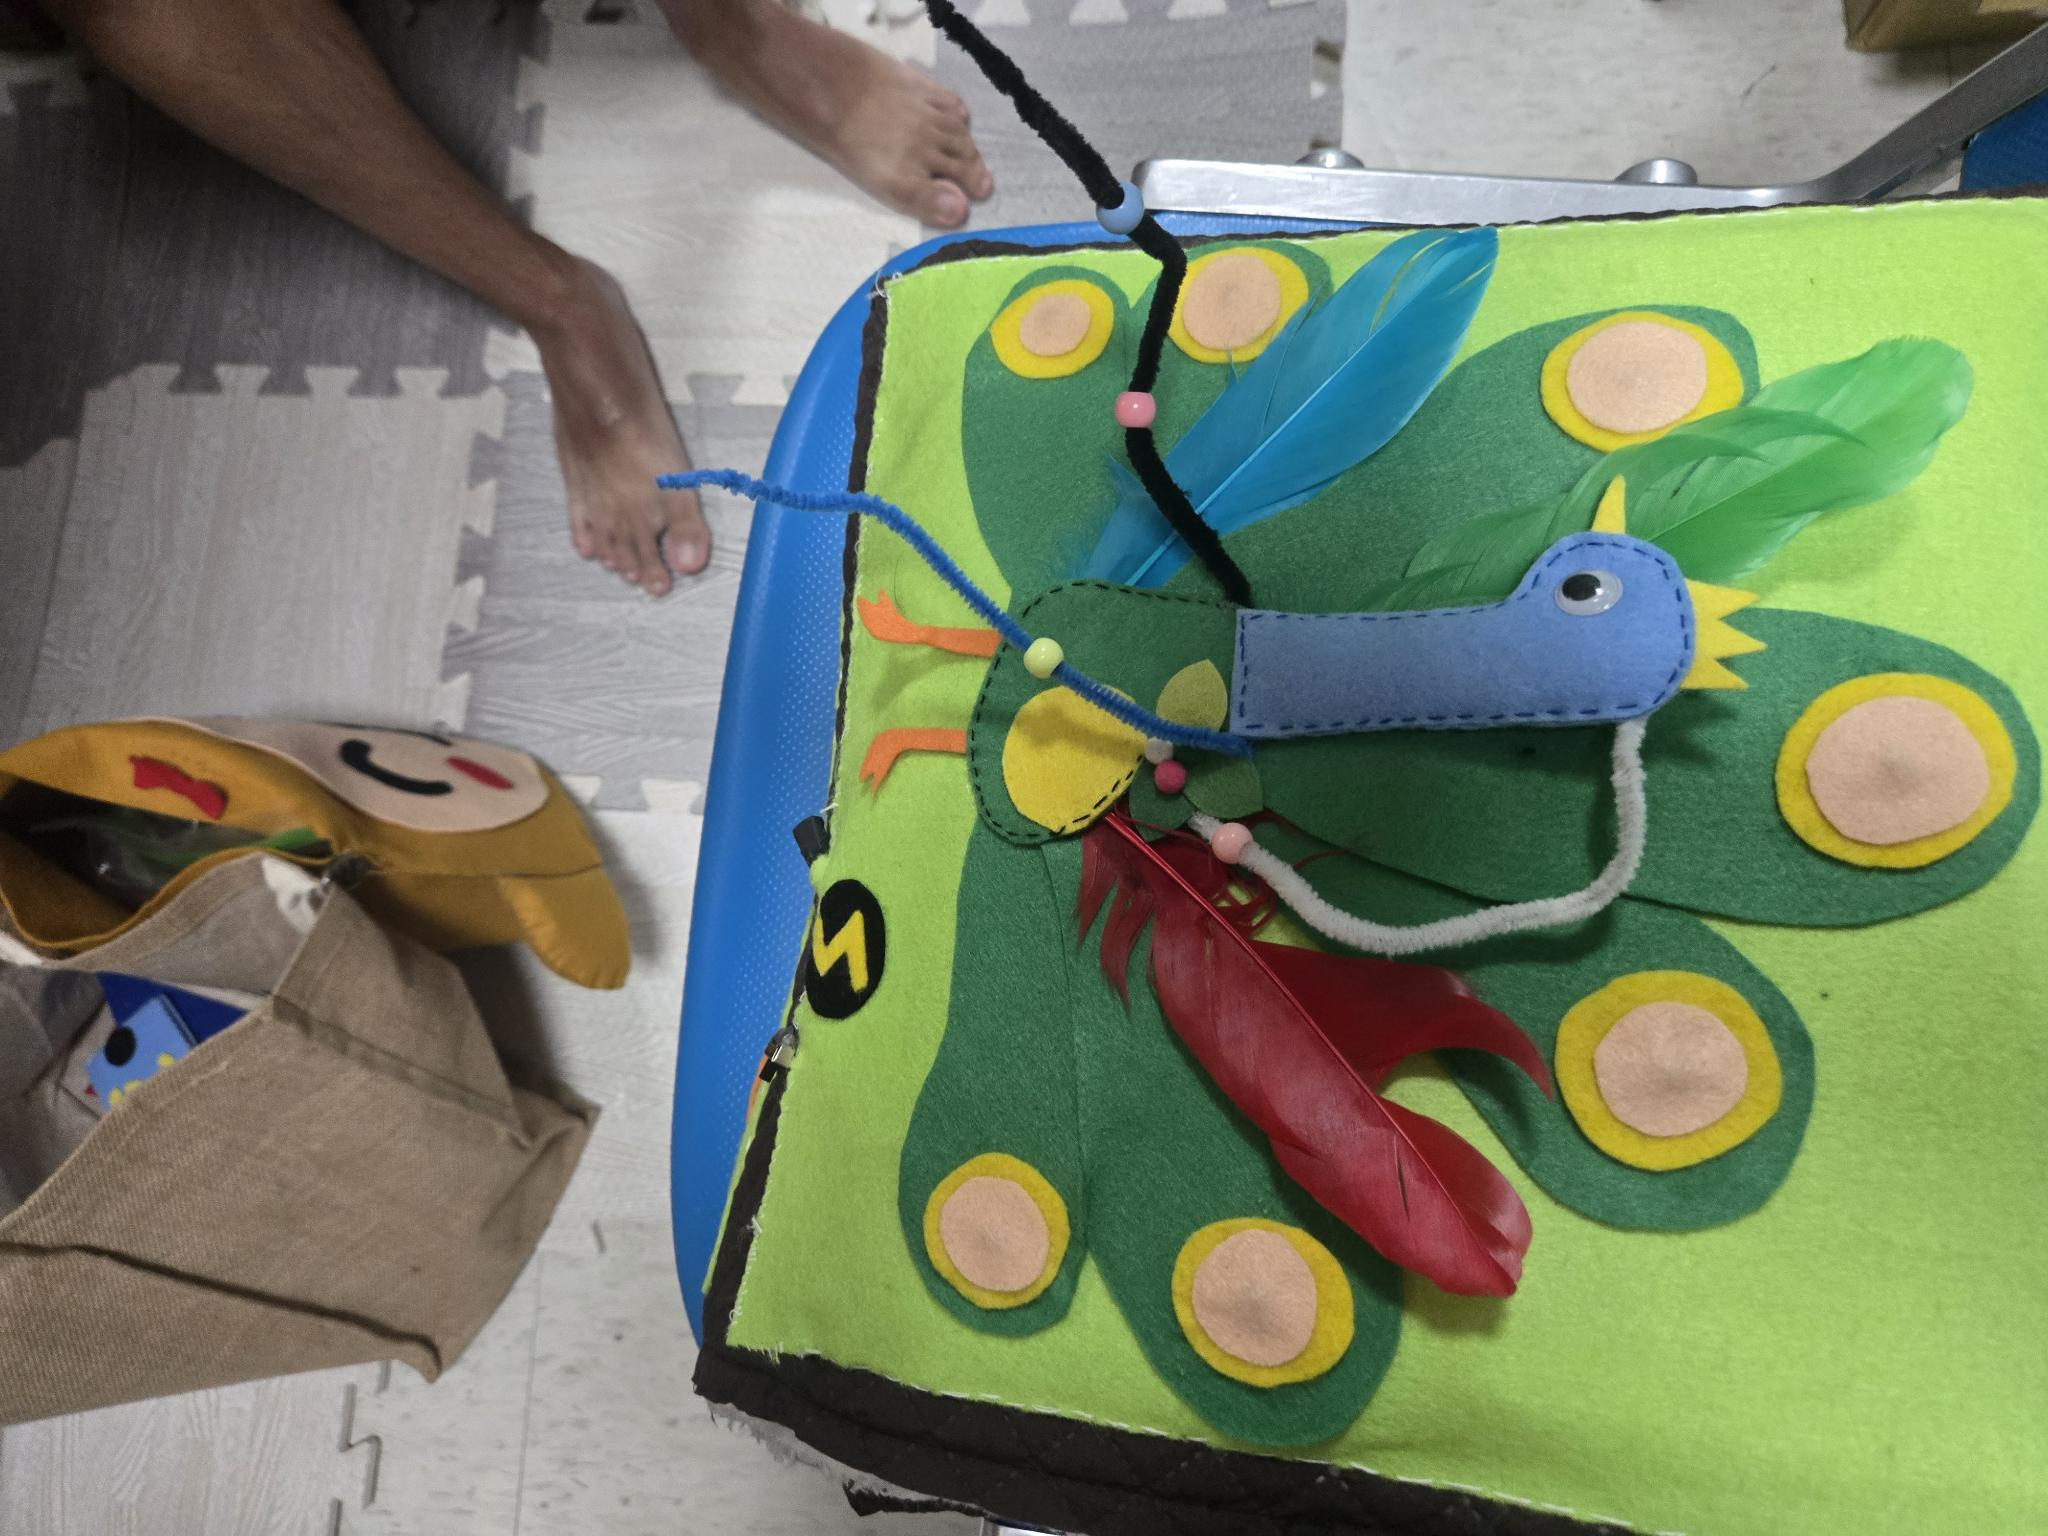bead: (1198, 810, 1271, 871), (1013, 615, 1069, 691), (1111, 382, 1164, 434)
